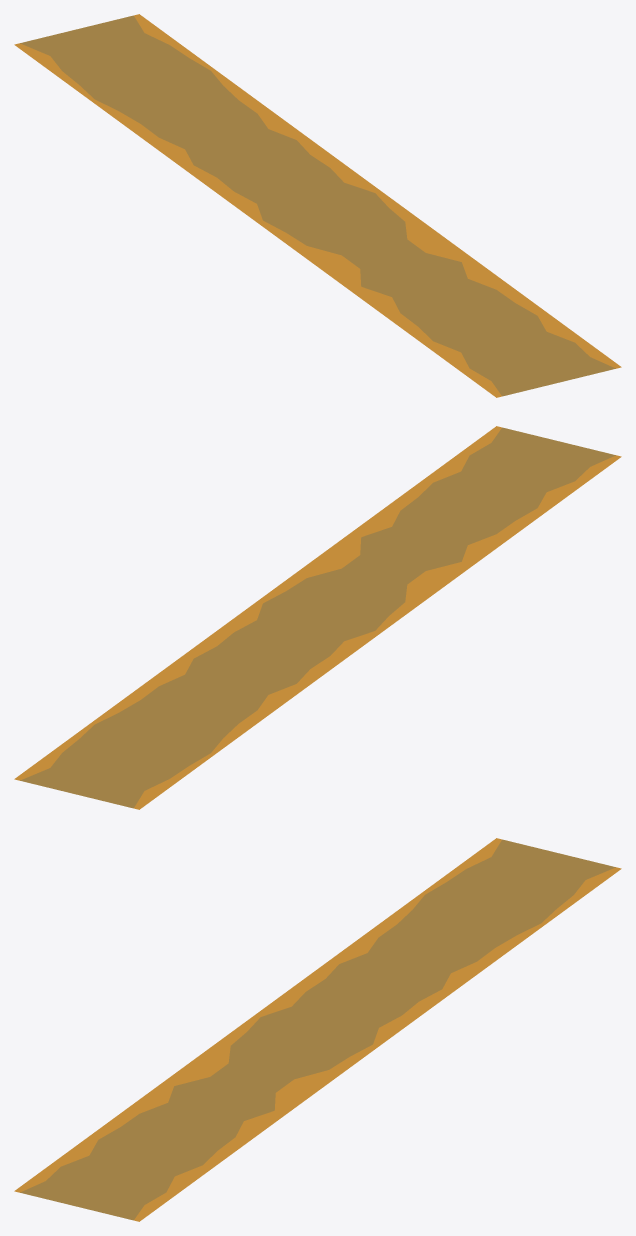
Rendered from desert-road.glb.
3 renders of one model, top to bottom at view 1: azimuth 30°, elevation 25°; view 2: azimuth 150°, elevation 25°; view 3: azimuth 330°, elevation 25°, orthographic.
Parts seen in each view (by area): view 1: road; view 2: road; view 3: road.
Part boxes in pixels (<box>): road: <box>14,14,621,397</box>; road: <box>14,426,621,809</box>; road: <box>14,838,621,1221</box>.
Bounding box in the file's own units: 7.5 × 0 × 50.
